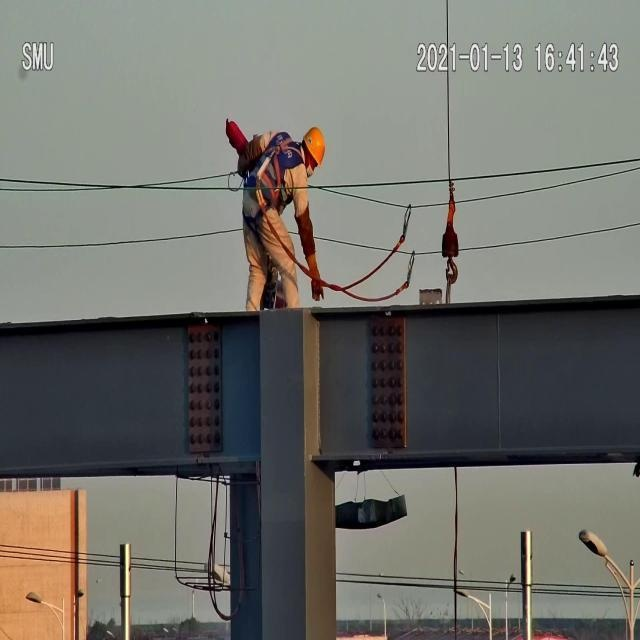Arnes_seguridad: (249, 129, 307, 200)
